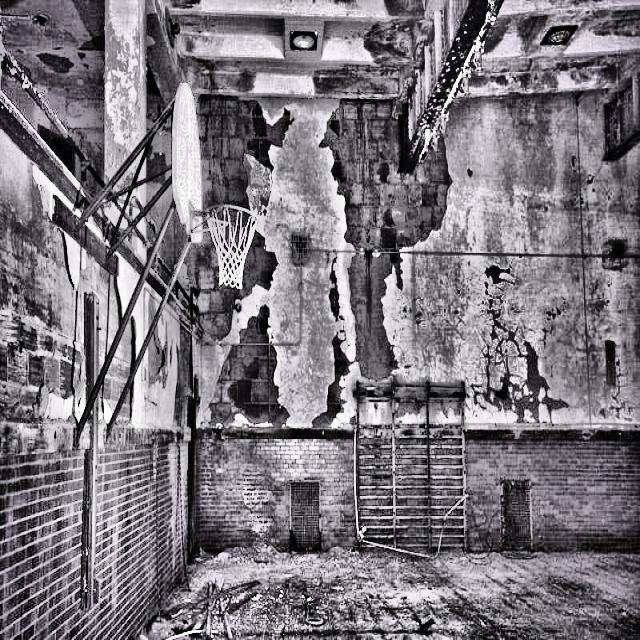rim: (202, 205, 260, 288)
